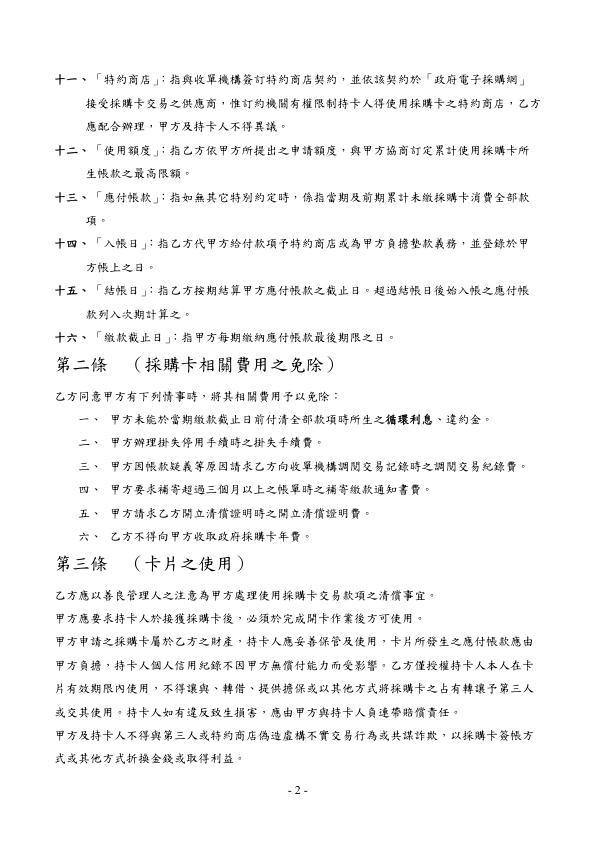text: (51, 587, 542, 772), (54, 388, 532, 548), (54, 67, 546, 139), (49, 188, 535, 229), (50, 235, 540, 275), (48, 283, 535, 323), (54, 142, 536, 181), (54, 355, 340, 378), (48, 329, 404, 346), (53, 551, 248, 578)
